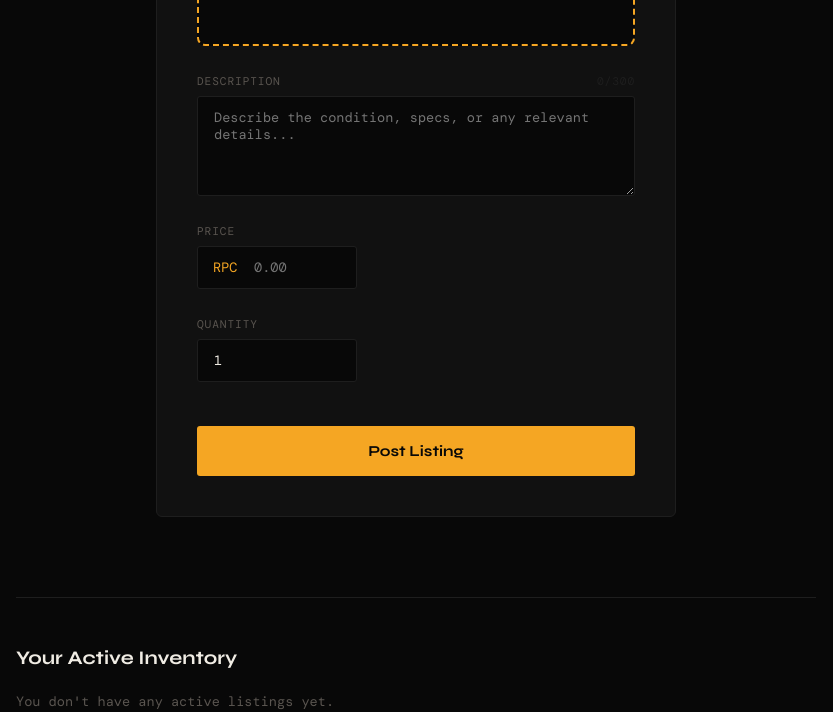
it: SellPage › shows quantity error when quantity is negative
(page scrolled)
Type "-1" into the number field labelled "Quantity" at (277, 360), box [197, 339, 357, 382]
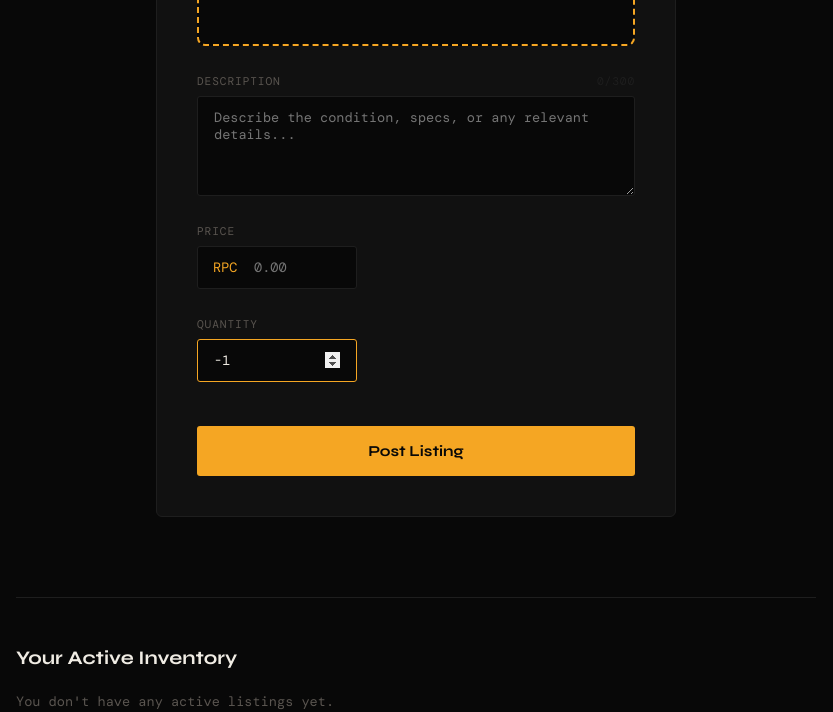
Click the button "Post Listing" at (416, 451), box [197, 426, 635, 476]
(page scrolled)
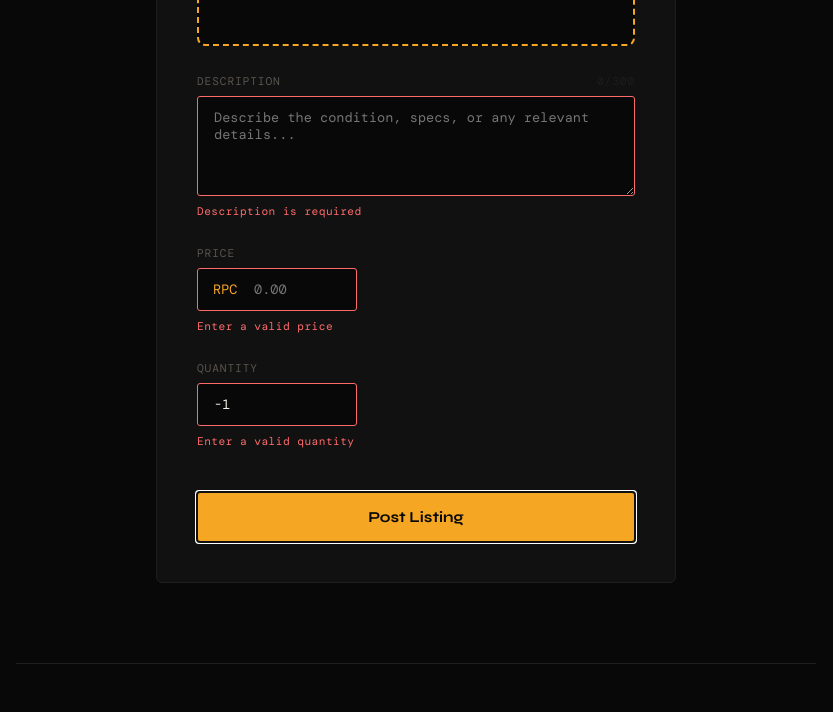
Now the text "Enter a valid quantity" is shown, box [197, 434, 354, 448]
